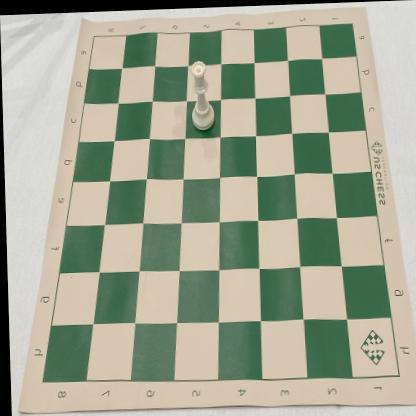white-queen: (189, 59, 214, 130)
